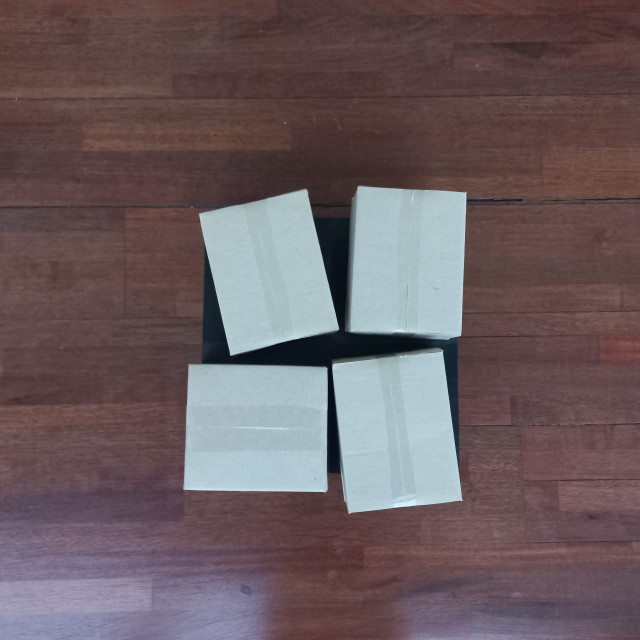box: (200, 185, 339, 358), (330, 346, 463, 516), (181, 361, 330, 496), (346, 183, 468, 340)
